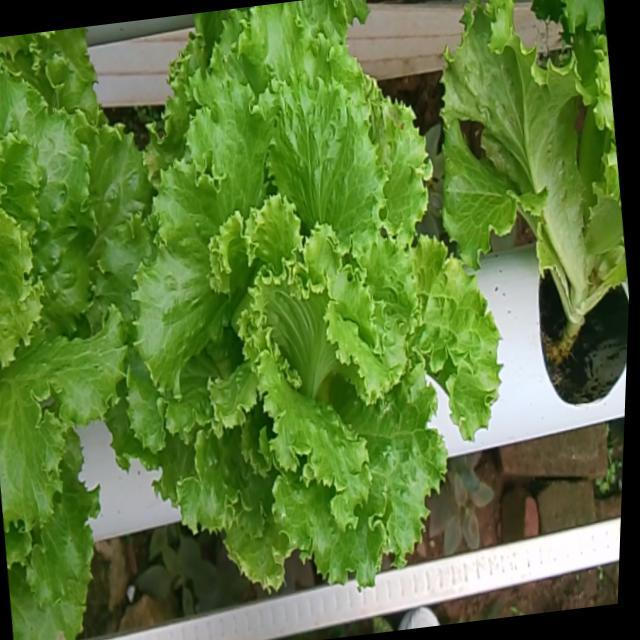Mature: (138, 23, 508, 613), (0, 80, 160, 571)
